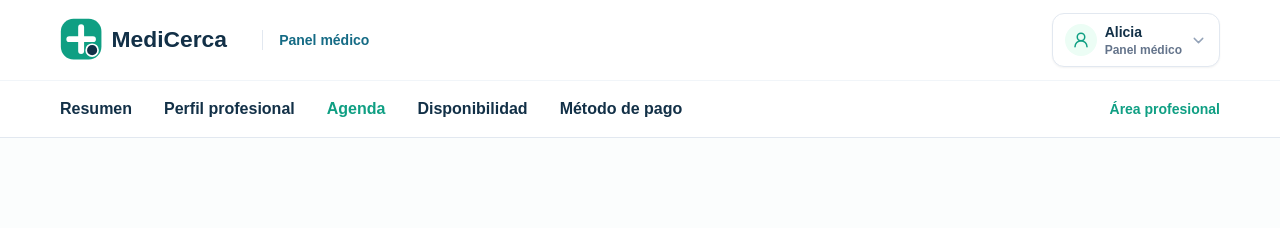
workspace header › identifies the doctor workspace and exposes its account menu
Expected: the 1st text "Panel médico" is shown, [262,30,369,50]
Click the button with aria-label "Abrir menú de cuenta de Alicia". click: [1136, 40]
box: [1052,13,1220,67]
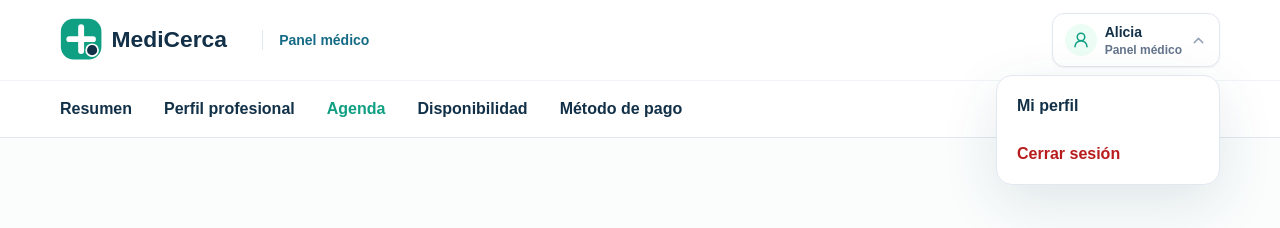
Now the button "Cerrar sesión" is shown, box [1005,132,1211,176]
